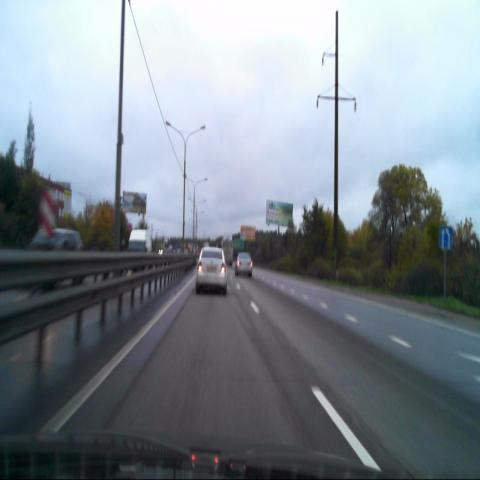5_15_5: (439, 226, 453, 250)
